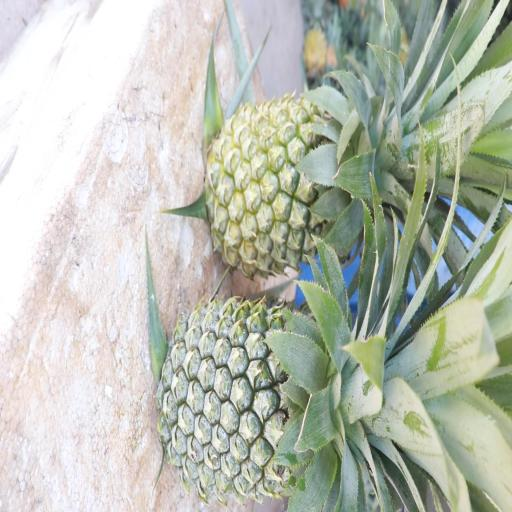Pineapple - v8 v1: (208, 80, 398, 271)
